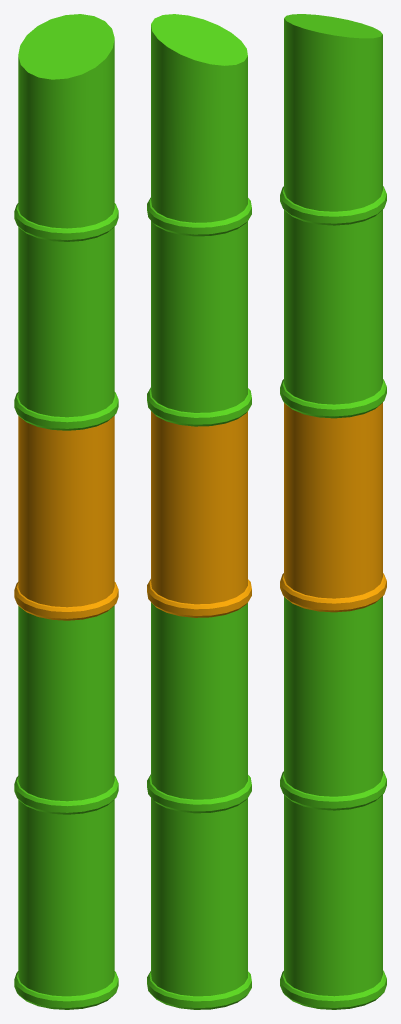
The model's file is Bamboo_Middle_5.fbx.
3 renders of one model, left to right at view 1: azimuth 90°, elevation 25°; view 2: azimuth 210°, elevation 25°; view 3: azimuth 270°, elevation 25°, orthographic. The views are drawn at different scales.
Visible parts, largest first — view 1: Bamboo_Middle_5; view 2: Bamboo_Middle_5; view 3: Bamboo_Middle_5.
Part boxes in pixels (<box>): Bamboo_Middle_5: <box>14,14,118,1009</box>; Bamboo_Middle_5: <box>147,14,251,1009</box>; Bamboo_Middle_5: <box>280,14,386,1009</box>.
Bounding box in the file's own units: 0.2608 × 2.63 × 0.2608.
